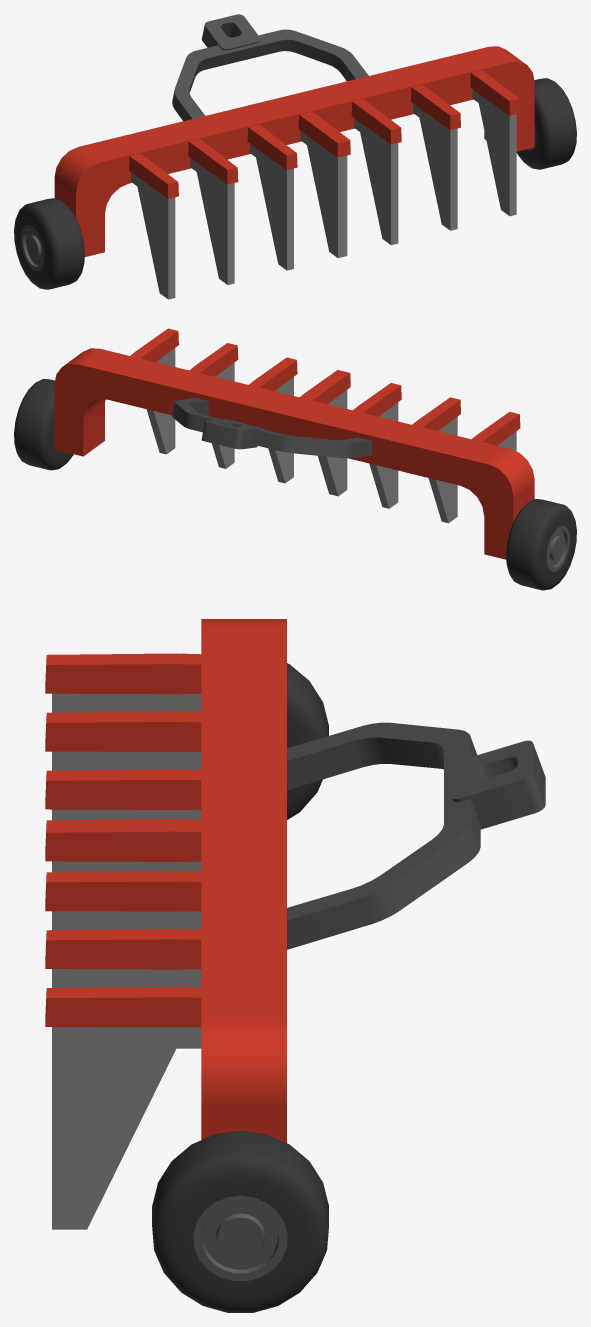
Rendered from Building12.fbx.
3 views of the same model, one above another, from view 1: azimuth 30°, elevation 25°; view 2: azimuth 150°, elevation 25°; view 3: azimuth 270°, elevation 25° (orthographic). The views are drawn at different scales.
Parts seen in each view (by area): view 1: Cube.039, Cylinder.027; view 2: Cube.039, Cylinder.027; view 3: Cube.039, Cylinder.027.
Boxes of the visible parts, x1,y1,x2,y2 form: Cube.039: (54,14,534,299); Cylinder.027: (14,78,576,289); Cube.039: (54,328,534,559); Cylinder.027: (14,379,576,590); Cube.039: (45,619,545,1229); Cylinder.027: (152,663,328,1312).
Bounding box in the file's own units: 9.41 × 3.88 × 2.6.
